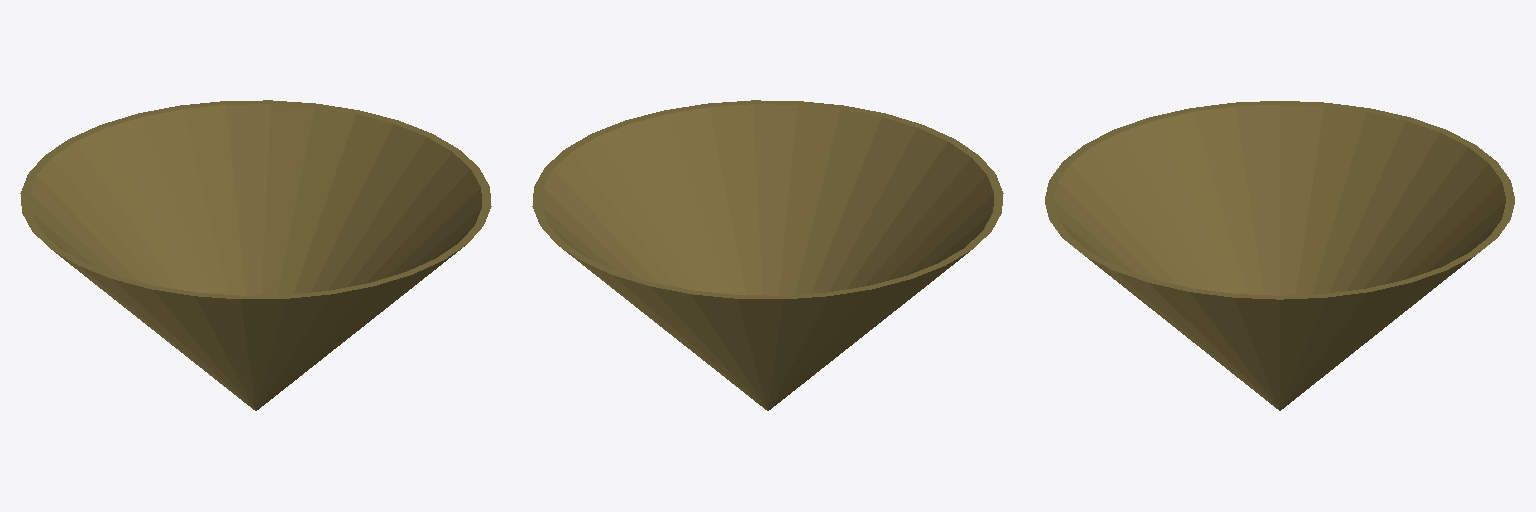
URDF robot description (object):
<?xml version="1.0"?>
<robot name="object">
  <link name="base_link"> <!-- required name-->
    <inertial>
      <origin xyz="0 0 0" /> 
      <mass value="1.0" />
      <inertia  ixx="1.0" ixy="0.0"  ixz="0.0"  iyy="1.0"  iyz="0.0"  izz="1.0" />
    </inertial>
    <visual>
      <origin xyz="0 0 0"/>
      <geometry>
        <!-- cone2 is slightly larger than a cone defined for mu = 1. -->
        <mesh filename="package://hpp-rbprm-corba/meshes/cones/cone1.dae"/>
      </geometry>
    </visual>
  </link>
</robot>

--- What the picture shows (computed from the rendered views, not written in the file) ---
Views: 3 orthographic renders of the robot side by side, from view 1: azimuth 30°, elevation 25°; view 2: azimuth 150°, elevation 25°; view 3: azimuth 270°, elevation 25°.
Robot: object — 1 links, 0 joints (none); root link base_link; default pose: all joints at 0.
Links seen in each view (by area): view 1: base_link; view 2: base_link; view 3: base_link.
Boxes of the visible links, x1,y1,x2,y2 form: base_link: (20, 100, 491, 410); base_link: (532, 100, 1003, 410); base_link: (1045, 101, 1514, 410).
Bounding box of the posed robot: 0.5313 × 0.5315 × 0.2629 m (x, y, z).
1 mesh visuals loaded from 1 distinct referenced files (1 Collada DAE).